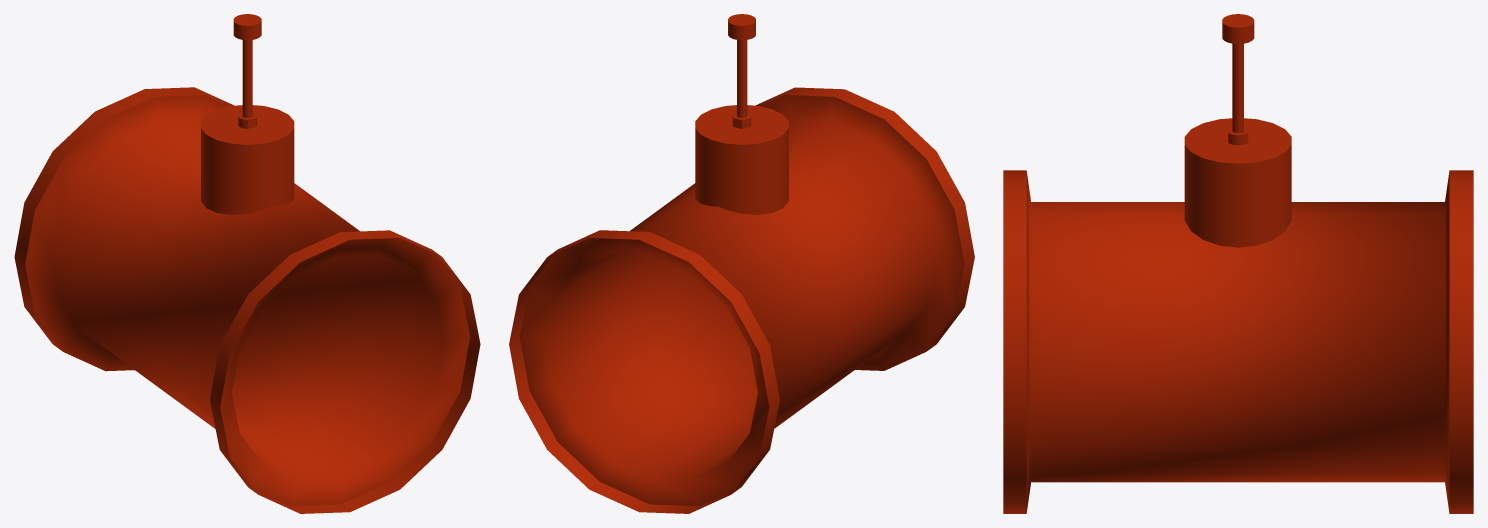
Rendered from sPipeValve_01_LOD0.FBX.
3 renders of one model, left to right at view 1: azimuth 30°, elevation 25°; view 2: azimuth 150°, elevation 25°; view 3: azimuth 270°, elevation 25°, orthographic. The views are drawn at different scales.
Parts seen in each view (by area): view 1: PipeValve_up1_01_LOD0; view 2: PipeValve_up1_01_LOD0; view 3: PipeValve_up1_01_LOD0.
Part boxes in pixels (bbox=[...]): PipeValve_up1_01_LOD0: bbox=[14, 14, 480, 513]; PipeValve_up1_01_LOD0: bbox=[509, 14, 974, 513]; PipeValve_up1_01_LOD0: bbox=[1003, 14, 1473, 513].
Bounding box in the file's own units: 19 × 29.07 × 25.99.
